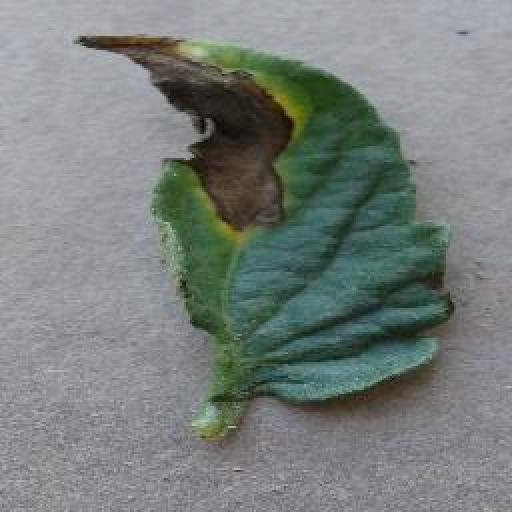disease_tomato: (71, 27, 455, 405)
